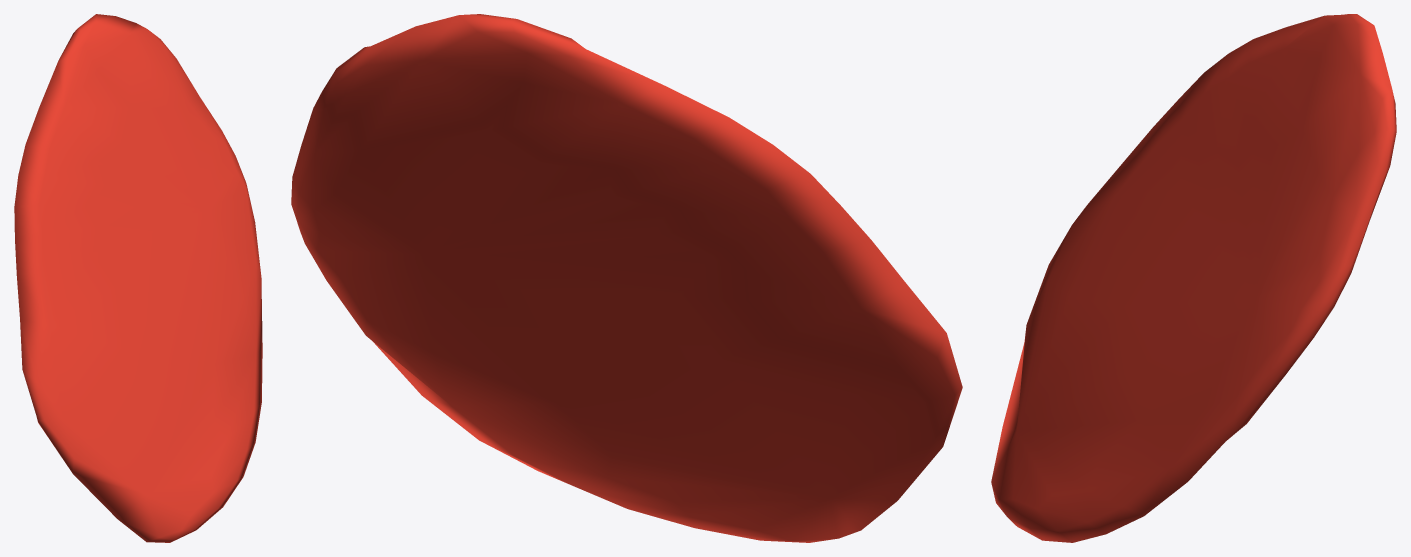
The model's file is Pronator_teres_humeral_insertion_right.glb.
3 renders of one model, left to right at view 1: azimuth 30°, elevation 25°; view 2: azimuth 150°, elevation 25°; view 3: azimuth 270°, elevation 25°, orthographic. The views are drawn at different scales.
Parts seen in each view (by area): view 1: Pronator_teres_muscle-Humeral_insertion.r_Generated_Mesh_Fro; view 2: Pronator_teres_muscle-Humeral_insertion.r_Generated_Mesh_Fro; view 3: Pronator_teres_muscle-Humeral_insertion.r_Generated_Mesh_Fro.
Part boxes in pixels (box(x1,y1,x2,y2)): Pronator_teres_muscle-Humeral_insertion.r_Generated_Mesh_Fro: box(14, 14, 262, 542); Pronator_teres_muscle-Humeral_insertion.r_Generated_Mesh_Fro: box(291, 14, 962, 542); Pronator_teres_muscle-Humeral_insertion.r_Generated_Mesh_Fro: box(991, 14, 1396, 542).
Size of the model in its own units: 0.00839 by 0.0107 by 0.00743.
